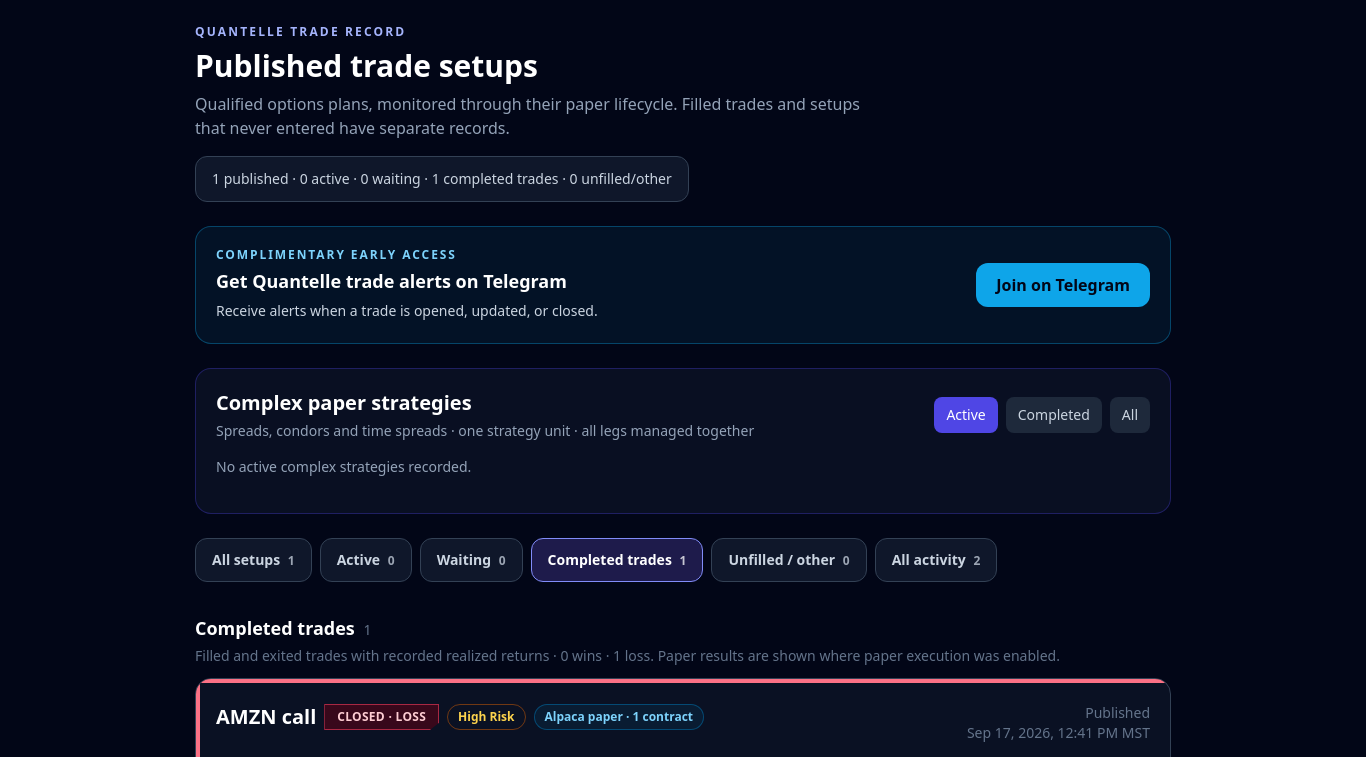
Test: TradeSignalsPage › shows recorded customer activity, evidence, and a losing gross paper result without staff incidents
Expected: the heading "AMZN call" is shown, 216,703 -> 316,731
Step 1. Click the button "All activity 2" → (936, 560), box 875,538 -> 997,582
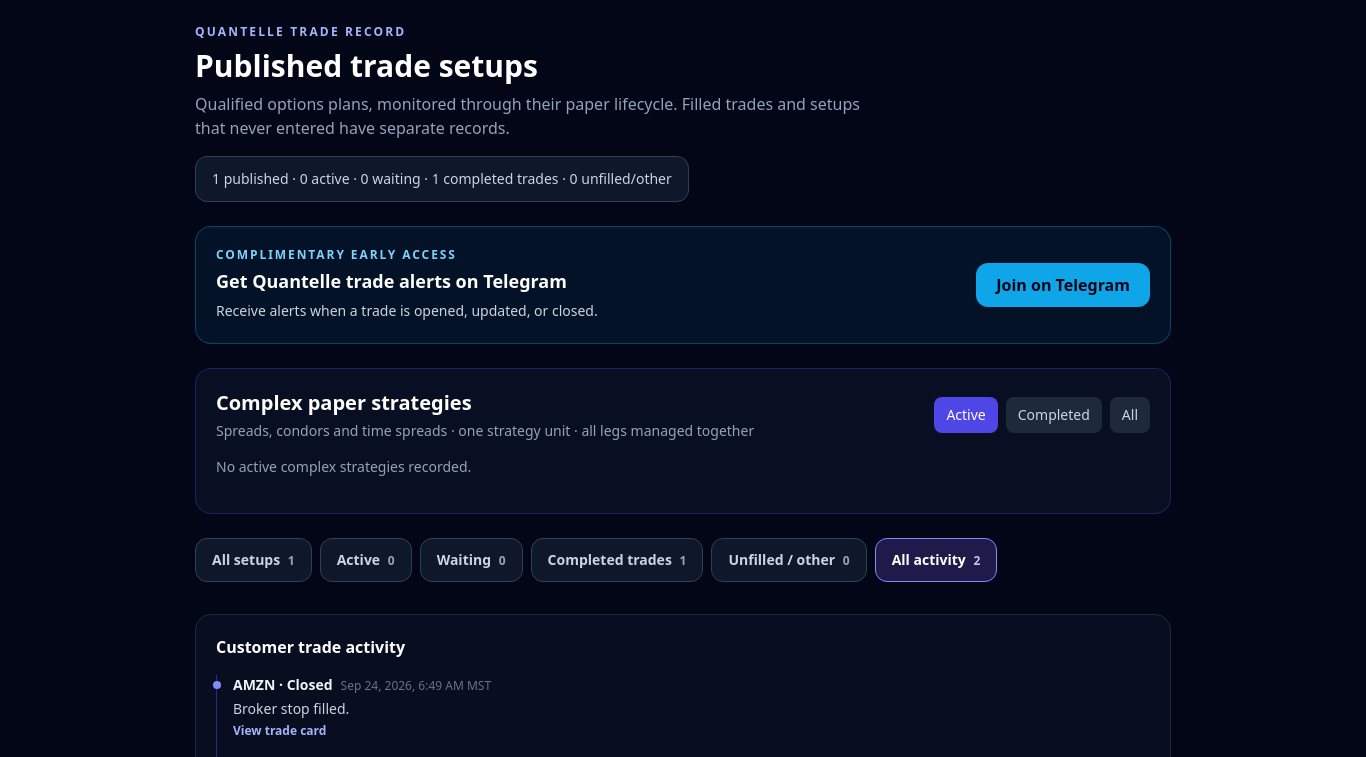
Expected: the text "Broker stop filled." is shown, 233,699 -> 349,718
